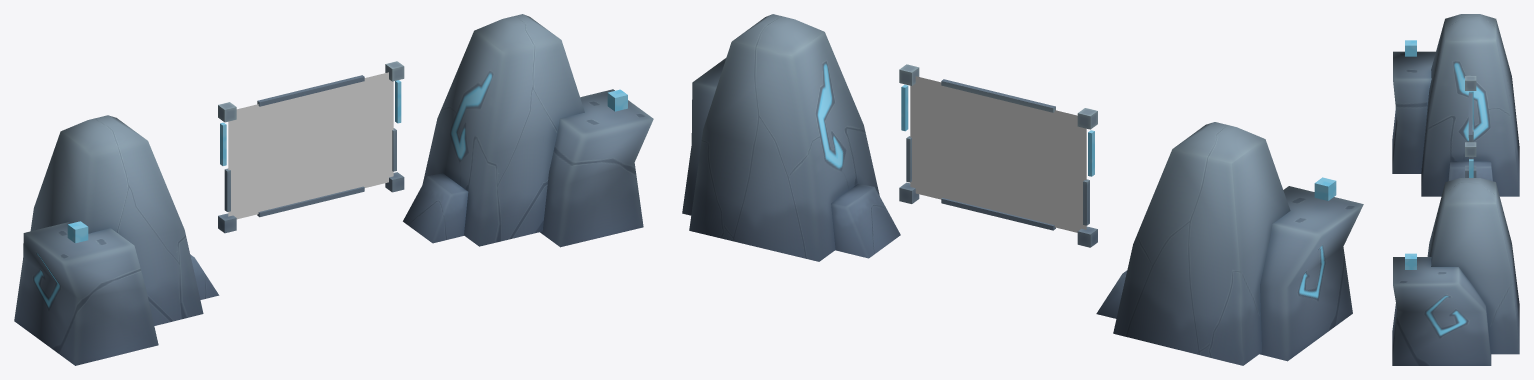
3 views of the same model, side by side, from view 1: azimuth 30°, elevation 25°; view 2: azimuth 150°, elevation 25°; view 3: azimuth 270°, elevation 25° (orthographic). The views are drawn at different scales.
Visible parts, largest first — view 1: tv_medieval, pantalla; view 2: tv_medieval, pantalla; view 3: tv_medieval.
Boxes of the visible parts, x1,y1,x2,y2 form: tv_medieval: (14,14,653,365); pantalla: (228,72,393,219); tv_medieval: (682,14,1363,365); pantalla: (910,76,1086,232); tv_medieval: (1392,14,1519,365).
Bounding box in the file's own units: 1185 × 364 × 274.
2 materials, 1 textured.
